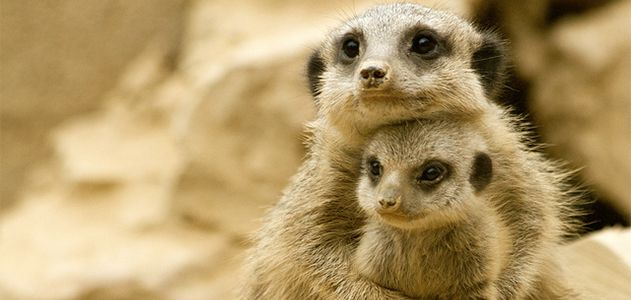meerkat: (343, 106, 501, 300)
